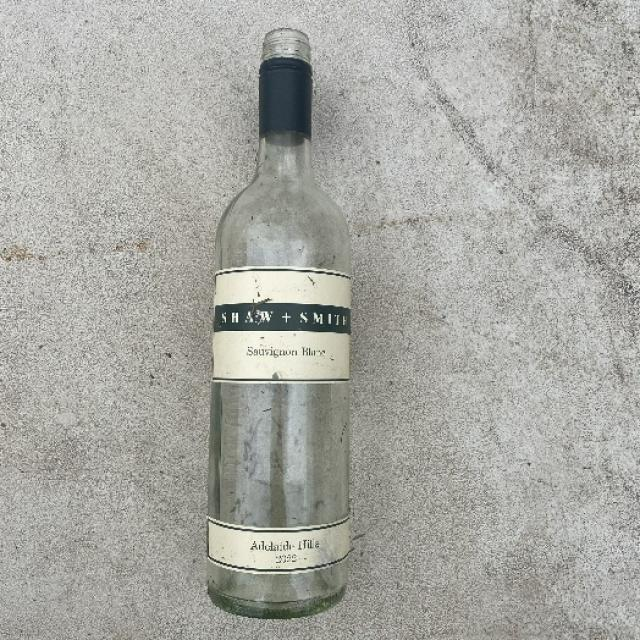inorganic: (188, 11, 362, 626)
